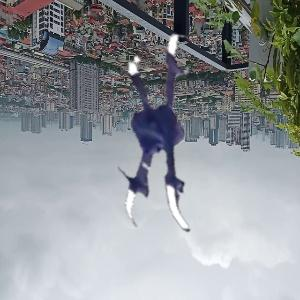drone: (81, 40, 275, 234)
